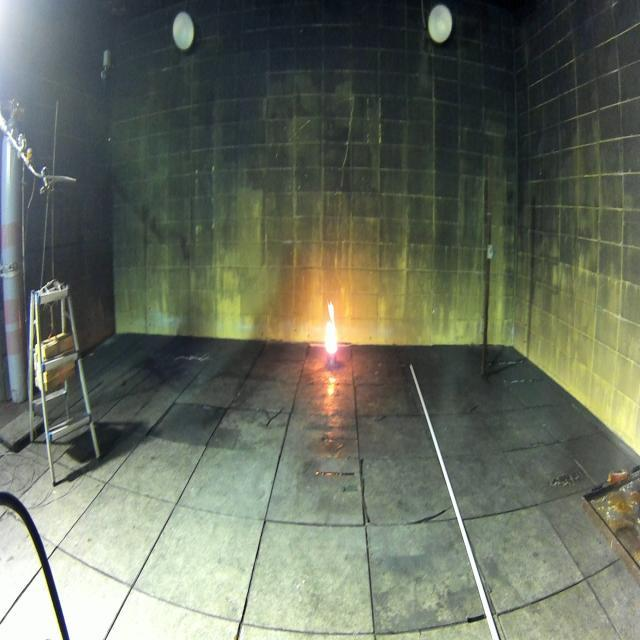Fire: (325, 299, 337, 354)
